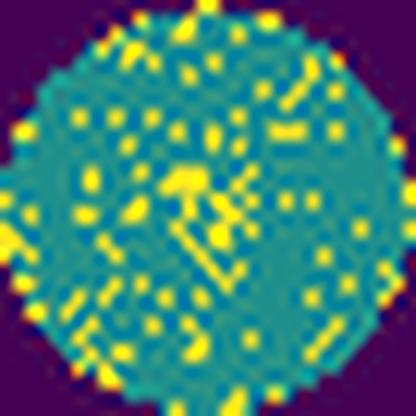Center: (154, 160, 266, 290)
